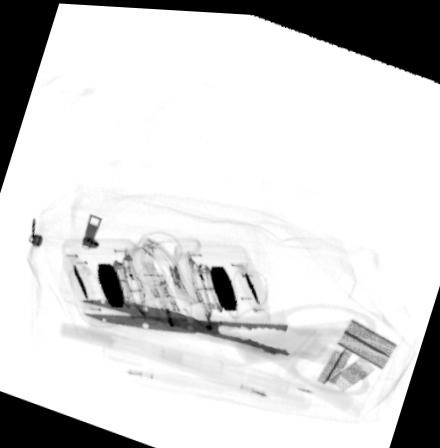Scissors: (81, 296, 376, 394)
